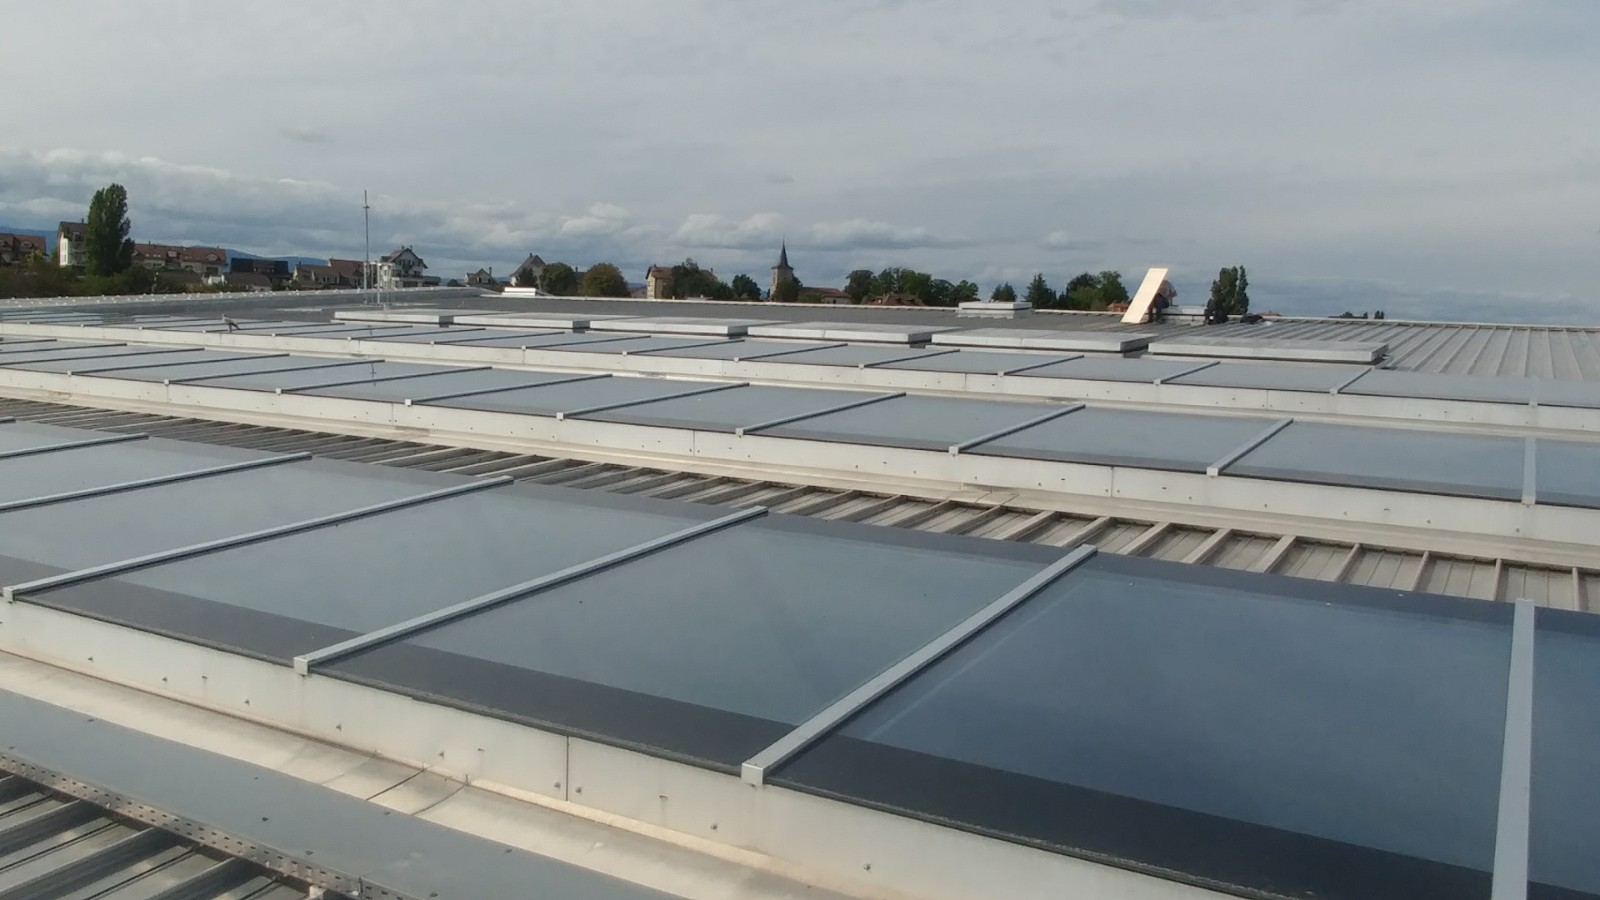Pigeon: (216, 308, 241, 335)
